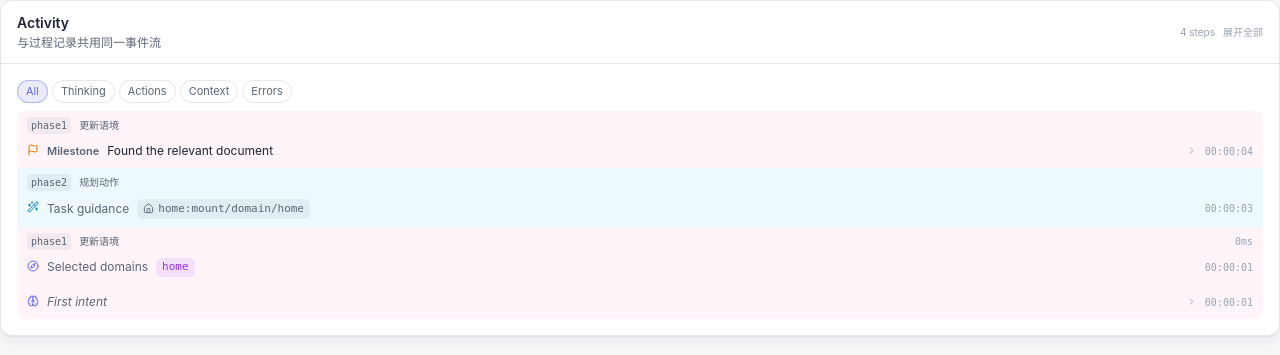
Test: ActivityTimeline › keeps successive intents in Thinking and expands intent and Context details inline
Click the button "Thinking": {"x": 83, "y": 91} [52,80,115,102]
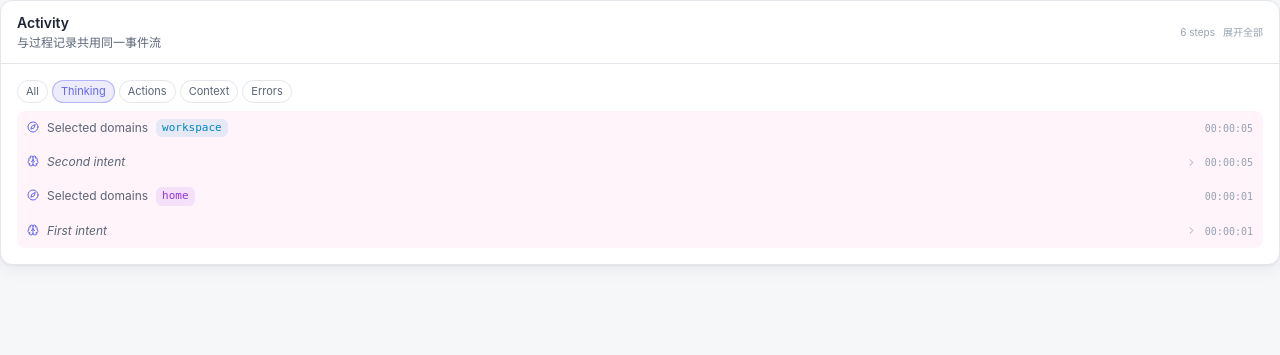
Now the text "更新语境" is gone
Now the text "Task guidance" is gone
Now the text "Second intent" is shown, box [47,154,125,169]
Click the button "Second intent": {"x": 86, "y": 162} [47,153,1197,171]
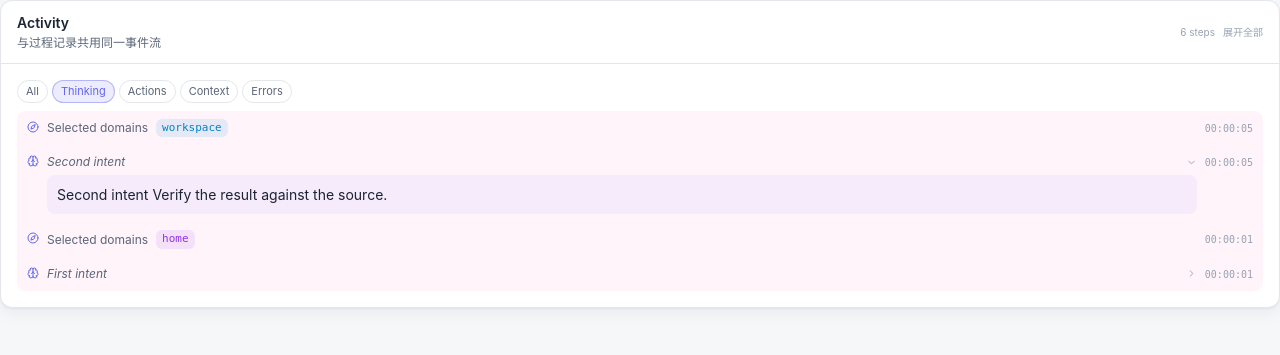
Expected: the text "Selected domains" is shown, [47,119,148,137]
Now the text "Verify the result against the source." is shown, box [57,186,387,203]
Click the button "Second intent": {"x": 86, "y": 162} [47,153,1197,171]
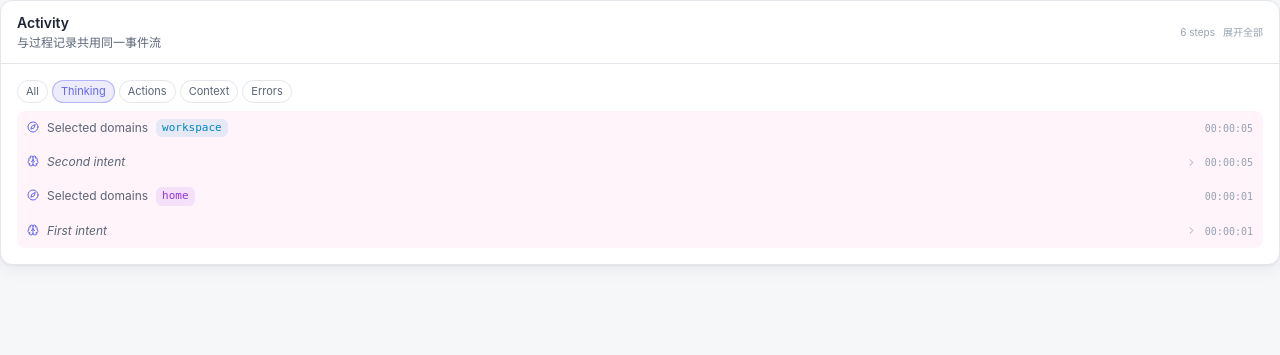
Now the text "Verify the result against the source." is gone
Click the button "Context": {"x": 209, "y": 91} [180,80,238,102]
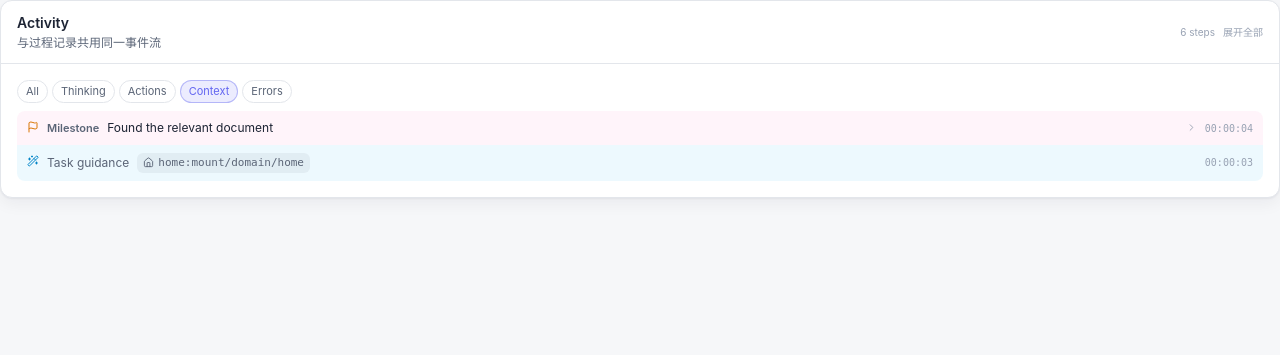
Now the text "Task guidance" is shown, box [47,154,129,172]
Now the text "Second intent" is gone
Click the button "Milestone Found the relevant document": {"x": 73, "y": 128} [47,118,1197,136]
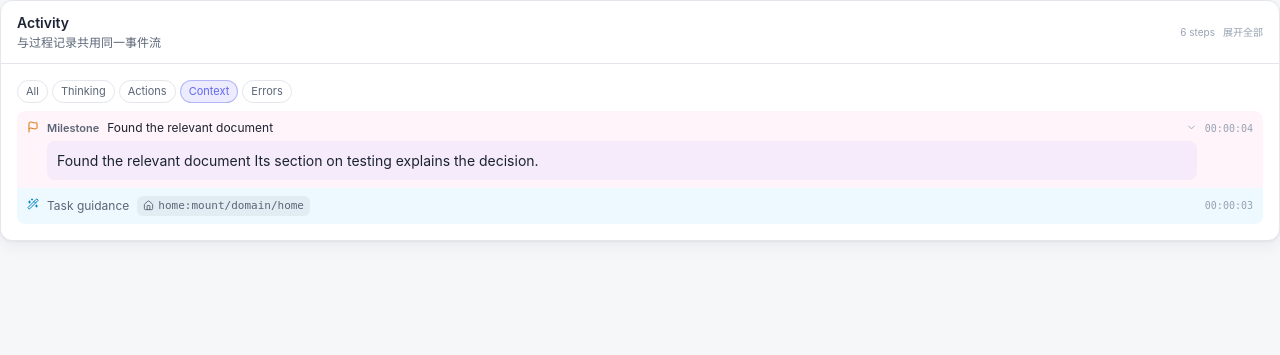
Now the text "Its section on testing explains the decision." is shown, box [57,152,539,168]
Click the button "Milestone Found the relevant document": {"x": 73, "y": 128} [47,118,1197,136]
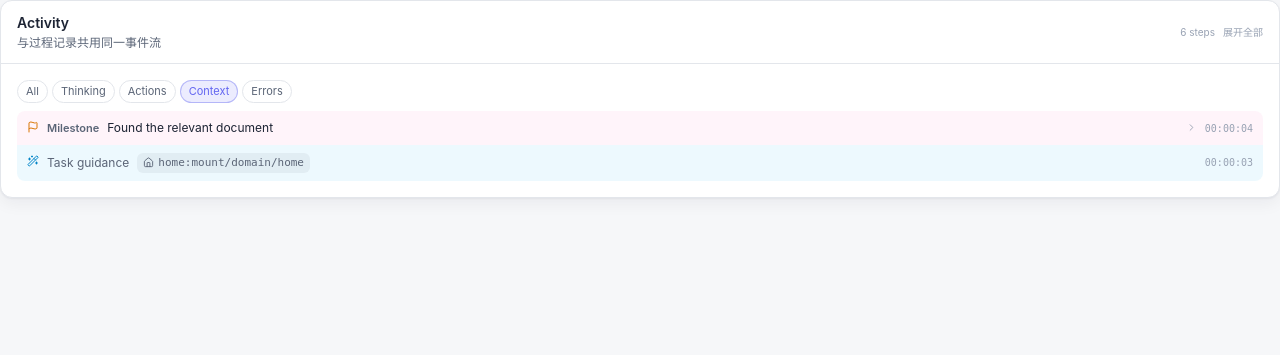
Now the text "Its section on testing explains the decision." is gone
